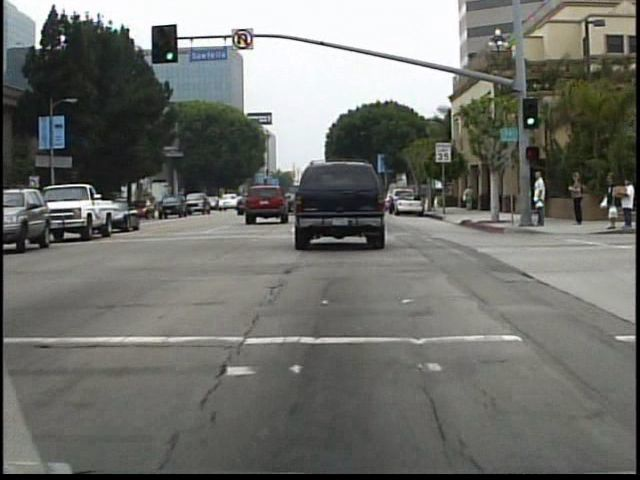person: (530, 166, 551, 232), (570, 168, 589, 227), (460, 183, 476, 214), (423, 185, 436, 213)
